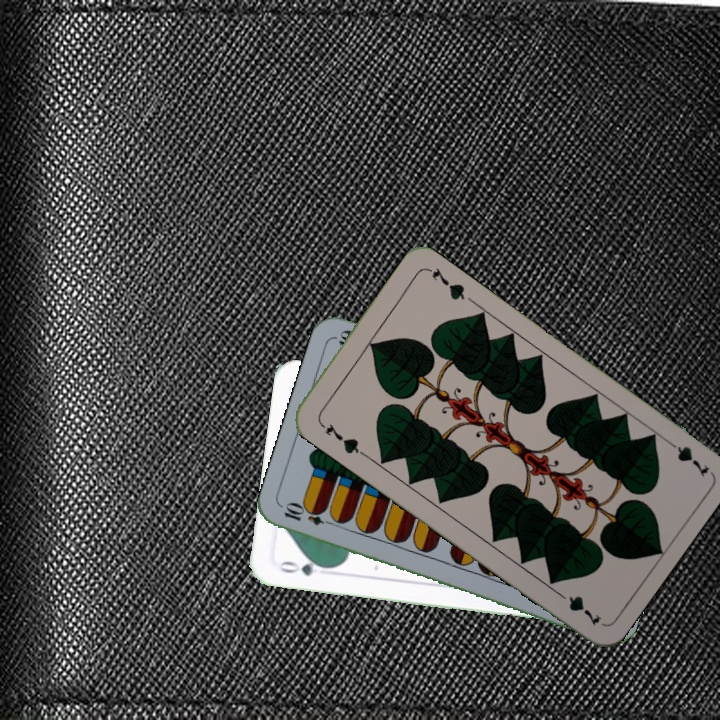E10: (280, 501, 339, 529)
G7: (660, 434, 712, 480), (315, 417, 367, 458)
GO: (274, 555, 333, 579)
